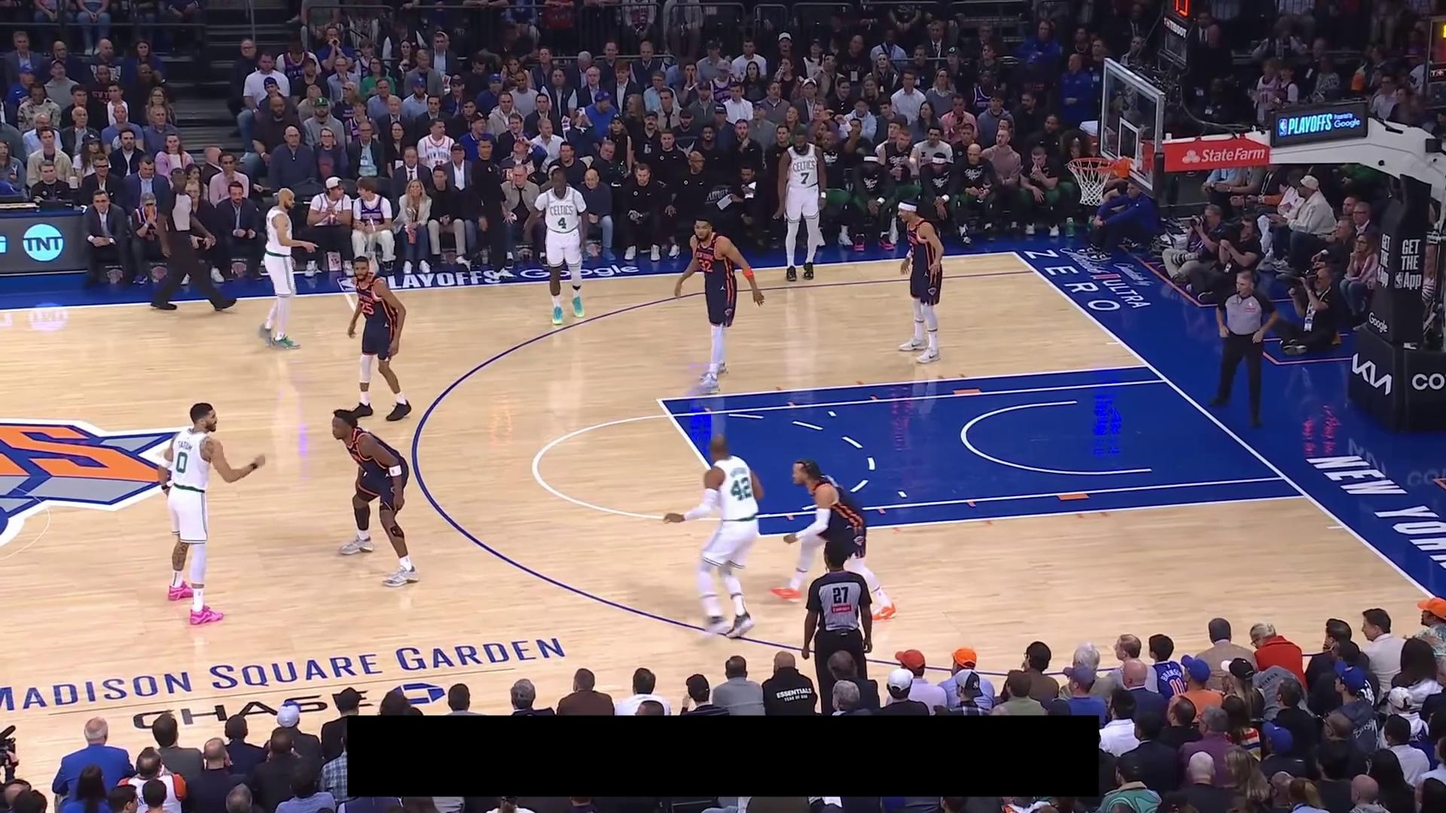number: (730, 477, 753, 501), (175, 451, 188, 473), (697, 257, 712, 273), (360, 301, 374, 315), (799, 170, 811, 185), (557, 215, 568, 230)
player: (156, 400, 267, 627), (661, 430, 766, 642), (771, 456, 898, 623), (673, 215, 766, 395), (331, 408, 421, 589), (339, 254, 413, 422), (523, 166, 590, 326), (255, 185, 318, 352), (773, 125, 828, 282), (895, 197, 946, 365)
referee: (150, 166, 238, 312), (802, 544, 874, 713), (1207, 268, 1280, 428)
rim: (1067, 156, 1115, 172)
